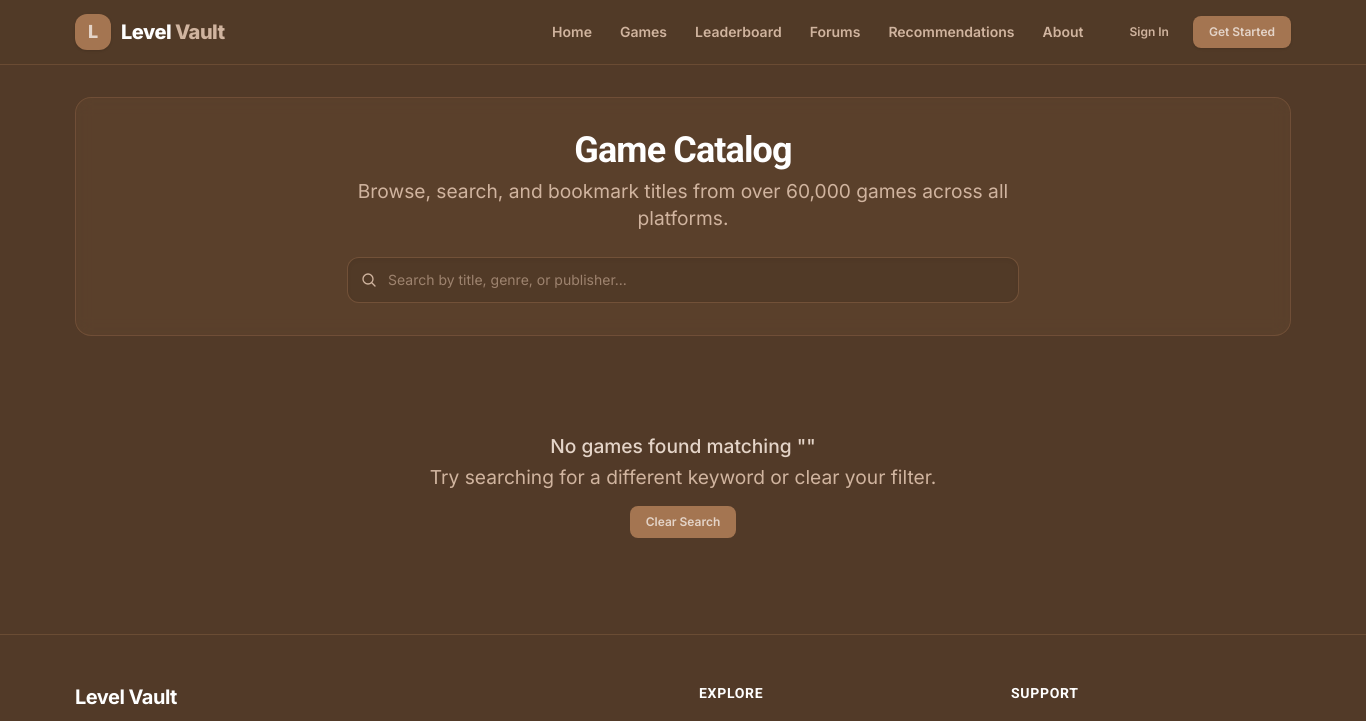
it: Games page › shows an empty state message with the current search text and clears it on button click
Type "zorp" into the field with placeholder "Search by title, genre, or publisher...".
click(683, 280); type("zorp")  # box [347,257,1019,303]
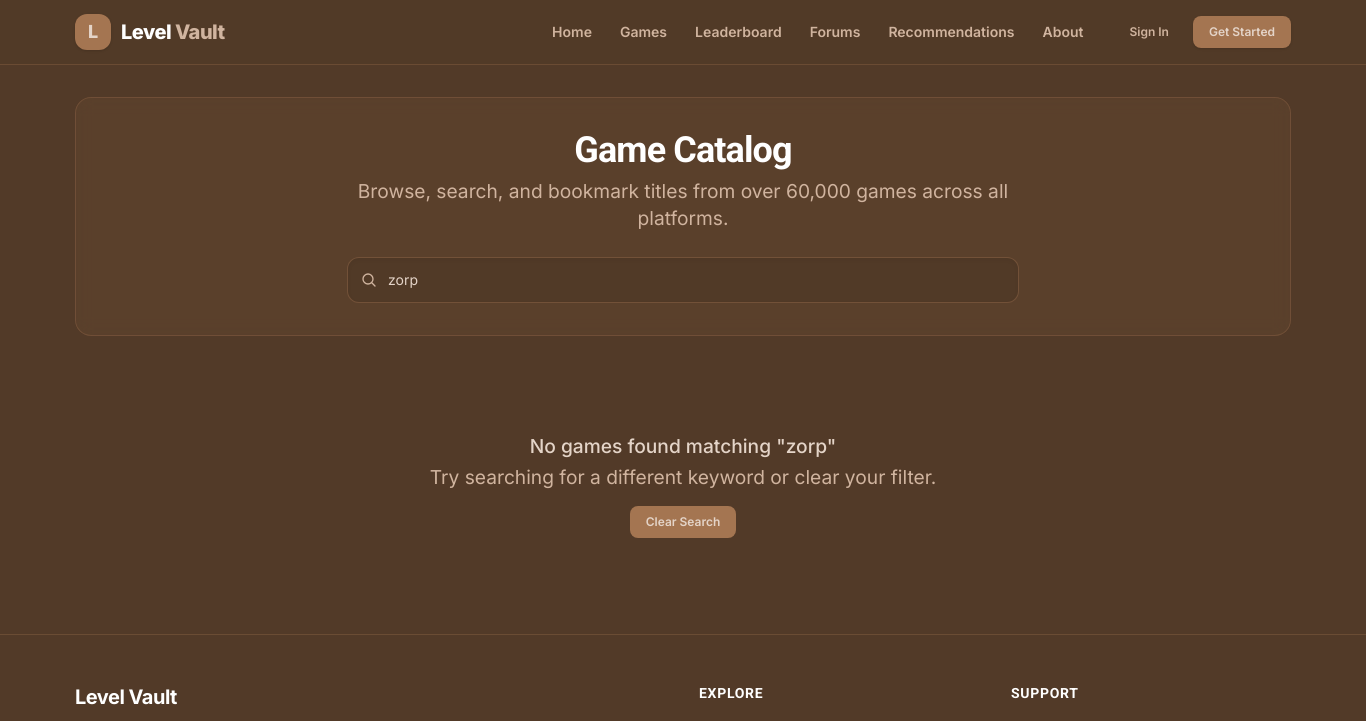
Result: the text "No games found matching \"zorp\"" is shown at [530,432,836,461]
Click the button "Clear Search".
click(683, 522)  # box [630,506,736,538]
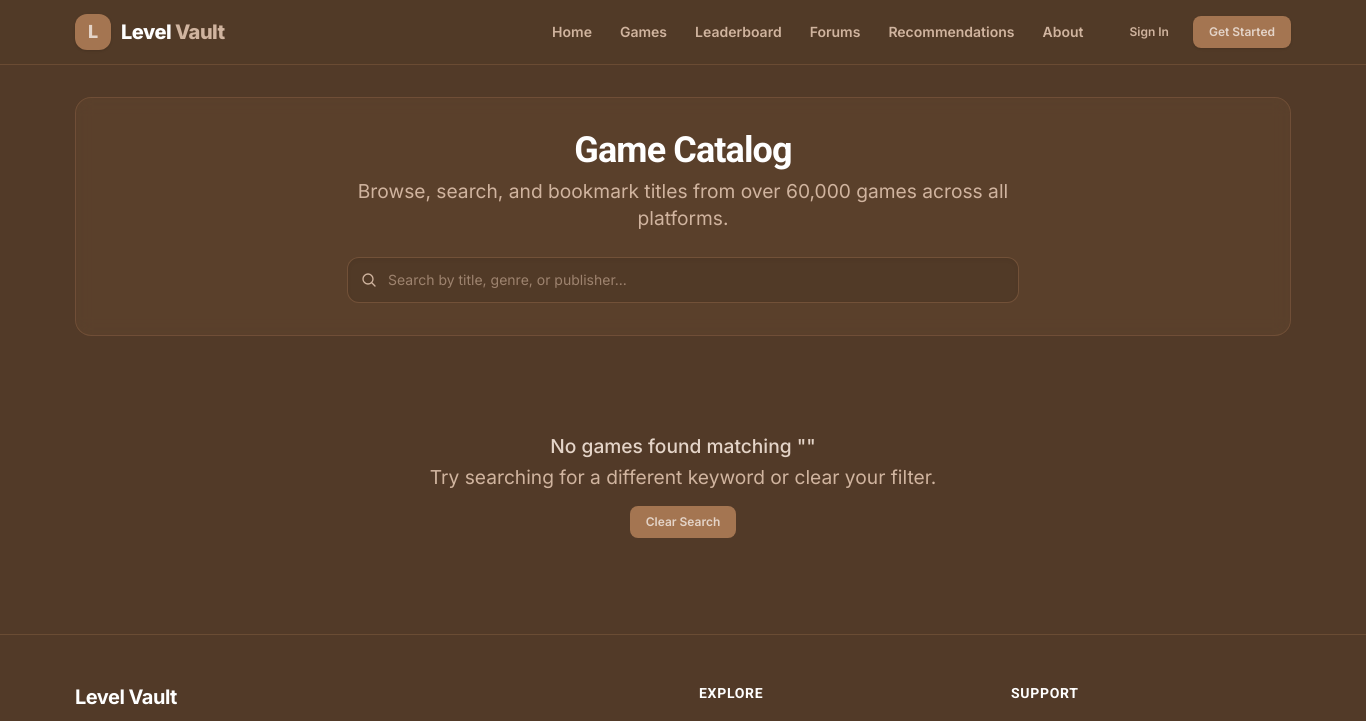
Result: the field with placeholder "Search by title, genre, or publisher..." is empty at [347,257,1019,303]
